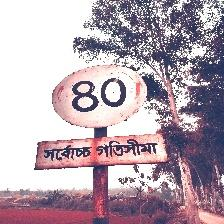Speed-limit: (37, 64, 163, 170)
